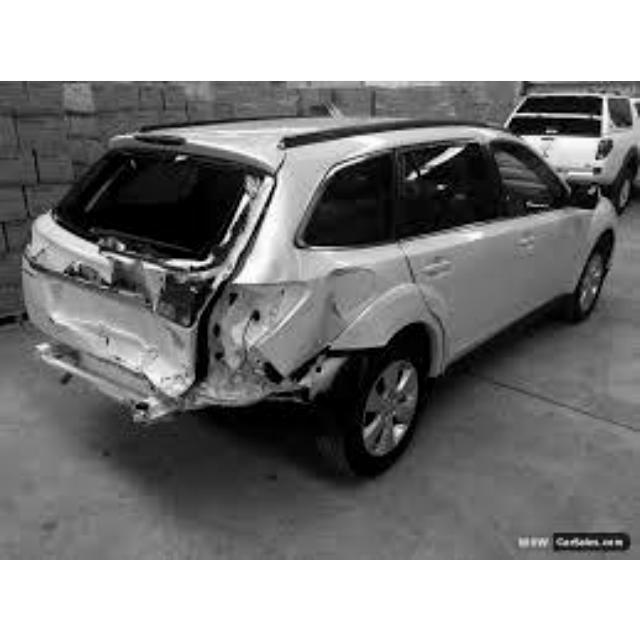boot-dent: (33, 239, 215, 374)
quaterpanel-dent: (240, 261, 390, 362)
rear-bumper-dent: (17, 379, 269, 435)
